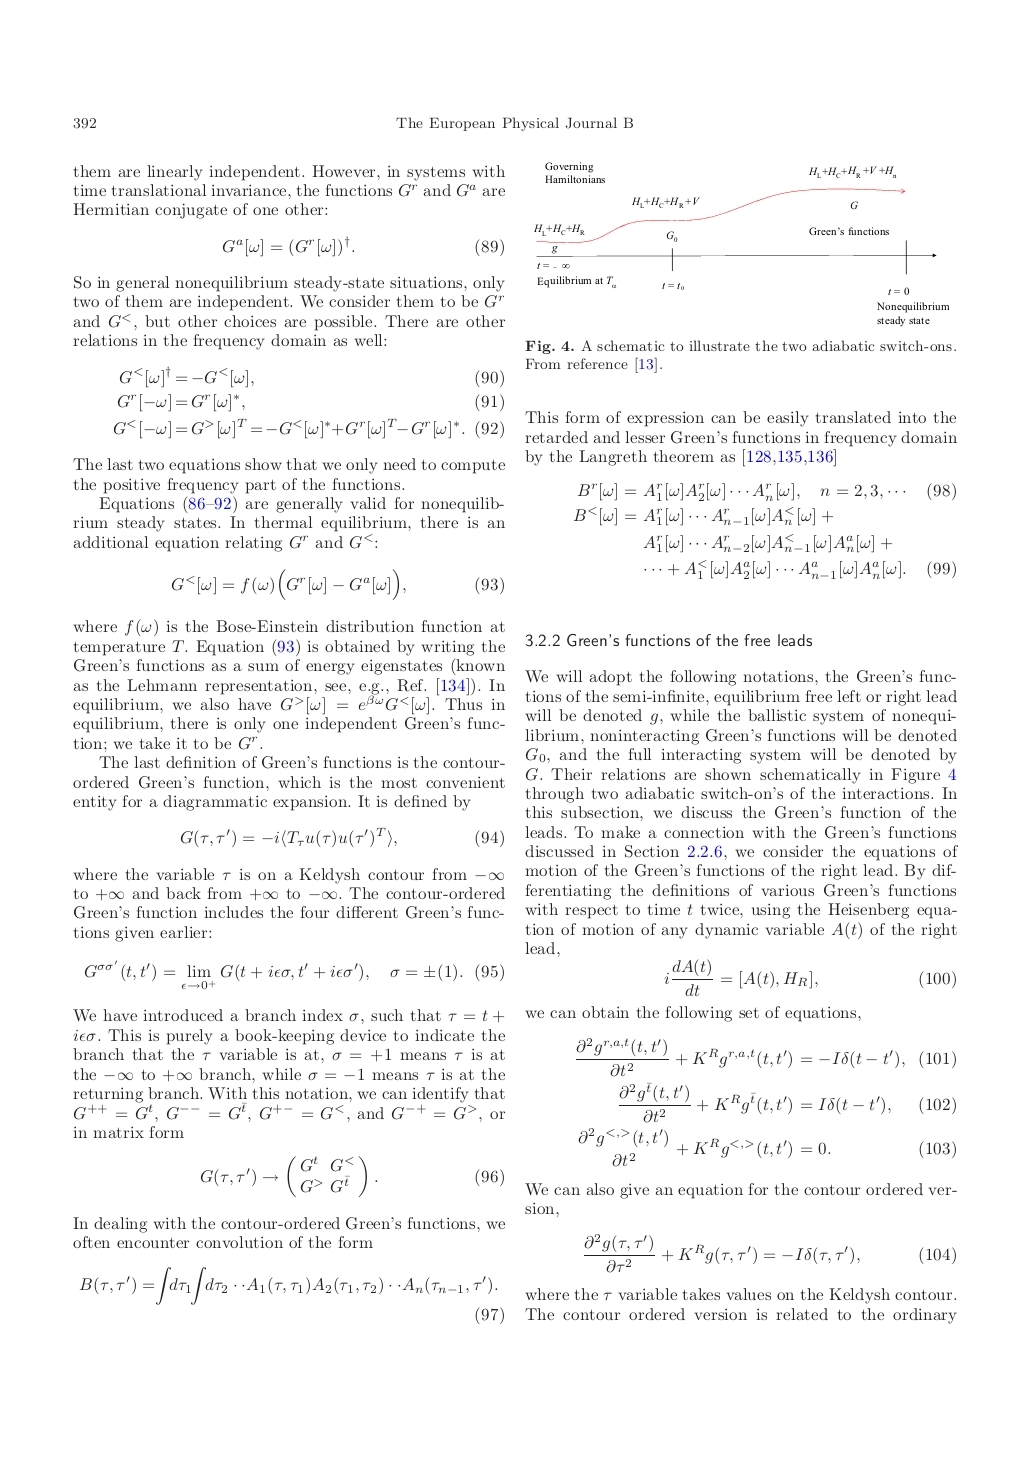figure: (534, 162, 950, 326)
formula: (79, 1265, 503, 1324), (584, 1231, 955, 1273), (576, 1037, 955, 1078), (578, 1127, 955, 1167), (619, 1081, 955, 1123), (84, 959, 503, 991), (200, 1154, 503, 1197), (664, 958, 955, 997), (171, 568, 503, 600), (119, 365, 503, 388), (113, 417, 503, 439), (117, 392, 503, 412), (577, 482, 955, 501), (180, 827, 503, 848), (644, 559, 955, 579), (222, 235, 503, 257), (574, 505, 834, 526), (643, 532, 892, 553)
